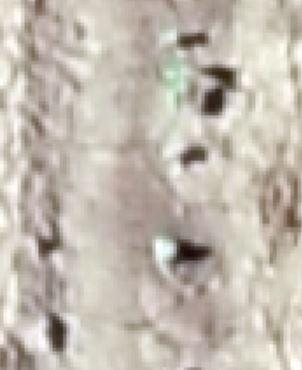cotton: (160, 239, 176, 257), (167, 65, 182, 80), (171, 88, 184, 102), (162, 30, 177, 41)
